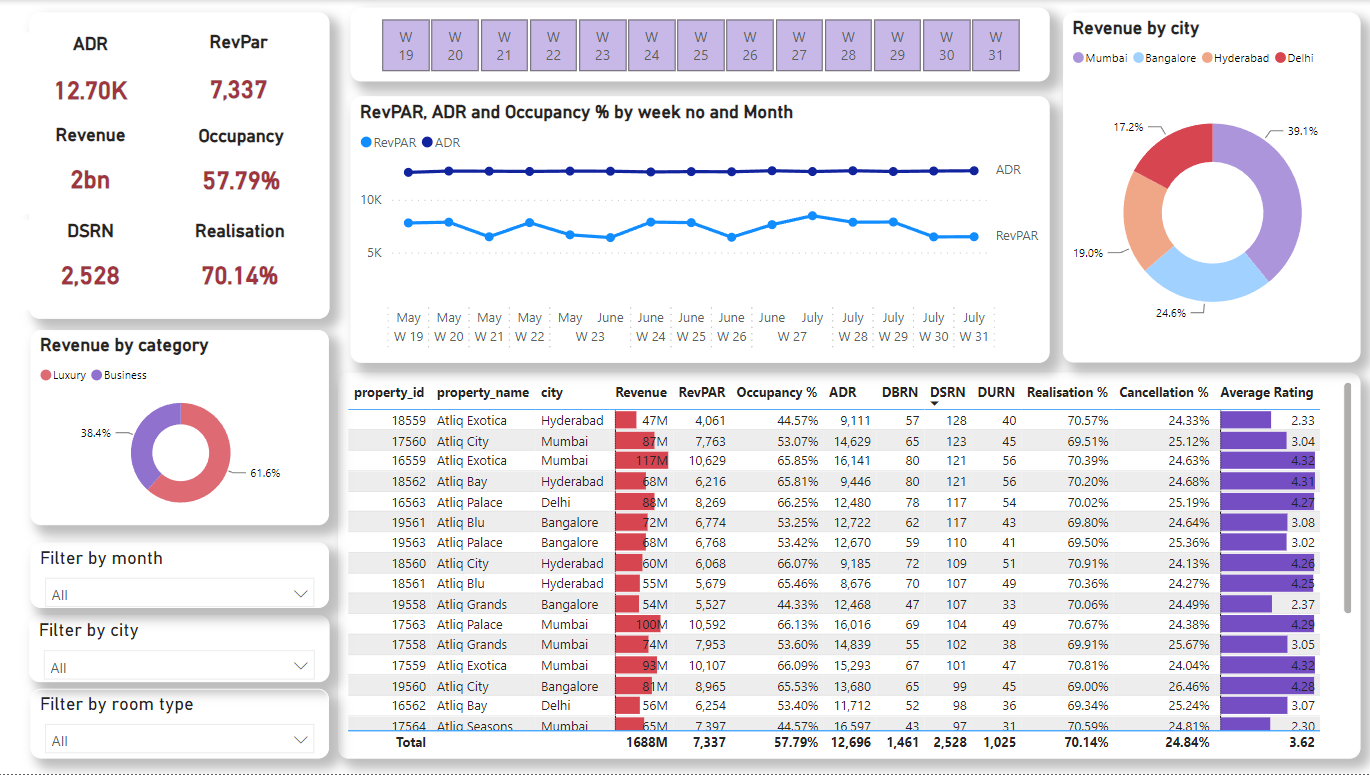

The page's visual inventory and layout, read from the dashboard file:
{"tool":"powerbi","page":{"name":"Page 1","canvas":[1280,720],"ordinal":0},"visuals":[{"type":"shape","box":[29.1,11.6,279.1,284.9],"z":0},{"type":"tableEx","fields":{"Values":["dim_hotels.property_id","dim_hotels.property_name","dim_hotels.city","Key_measures (2).Revenue","Key_measures (2).RevPAR","Key_measures (2).Occupancy %","Key_measures (2).ADR","Key_measures (2).DBRN","Key_measures (2).DSRN","Key_measures (2).DURN","Key_measures (2).Realisation %","Key_measures (2).Cancellation %"]},"box":[316.3,346.5,951.2,359.3],"z":1000},{"type":"slicer","title":"Filter by city","fields":{"Values":["dim_hotels.city"]},"box":[29.1,572.1,279.1,62.8],"z":2000},{"type":"slicer","title":"Filter by room type","fields":{"Values":["dim_hotels.category"]},"box":[30.2,640.7,277.9,65.1],"z":3000},{"type":"slicer","title":"Filter by month","fields":{"Values":["dim_date.mmm yy"]},"box":[30.2,504.7,277.9,60.5],"z":4000},{"type":"slicer","title":"Filter by month","fields":{"Values":["dim_date.week no"]},"box":[327.9,7,650,68.6],"z":5000},{"type":"card","title":"ADR","fields":{"Values":["Key_measures (2).ADR"]},"box":[20.5,30.5,130.2,88.4],"z":6000},{"type":"card","title":"Revenue","fields":{"Values":["Key_measures (2).Revenue"]},"box":[20.9,115.1,130.2,83.7],"z":7000},{"type":"card","title":"RevPar","fields":{"Values":["Key_measures (2).RevPAR"]},"box":[149.5,29.3,147.7,88.4],"z":8000},{"type":"card","title":"DSRN","fields":{"Values":["Key_measures (2).DSRN"]},"box":[20.9,204.7,130.2,83.7],"z":9000},{"type":"card","title":"Realisation","fields":{"Values":["Key_measures (2).Realisation %"]},"box":[151.2,204.7,147.7,83.7],"z":10000},{"type":"card","title":"Occupancy","fields":{"Values":["Key_measures (2).Occupancy %"]},"box":[152.3,116.3,147.7,83.7],"z":11000},{"type":"donutChart","fields":{"Category":["dim_hotels.category"],"Y":["Key_measures (2).Revenue"]},"box":[30.2,307,277.9,181.4],"z":12000},{"type":"lineChart","title":"RevPAR, ADR and Occupancy % by week no and Month","fields":{"Category":["dim_date.week no","dim_date.mmm yy.Variation.Date Hierarchy.Month"],"Y":["Key_measures (2).RevPAR","Key_measures (2).ADR"]},"box":[327.9,89.5,650,247.7],"z":13000},{"type":"donutChart","fields":{"Category":["dim_hotels.city"],"Y":["Key_measures (2).Revenue"]},"box":[990.7,11.6,276.7,325.6],"z":14000}]}

Visuals, with their boxes in screenshot pixels (x1, y1, x2, y2), scaled from the page's 1280x720 canvas onto the 1370x775 screenshot:
shape: detection(31, 12, 330, 319)
tableEx - dim_hotels.property_id x dim_hotels.property_name: detection(339, 373, 1357, 760)
"Filter by city" slicer: detection(31, 616, 330, 683)
"Filter by room type" slicer: detection(32, 690, 330, 760)
"Filter by month" slicer: detection(32, 543, 330, 608)
"Filter by month" slicer: detection(351, 8, 1047, 81)
"ADR" card: detection(22, 33, 161, 128)
"Revenue" card: detection(22, 124, 162, 214)
"RevPar" card: detection(160, 32, 318, 127)
"DSRN" card: detection(22, 220, 162, 310)
"Realisation" card: detection(162, 220, 320, 310)
"Occupancy" card: detection(163, 125, 321, 215)
donutChart - dim_hotels.category x Key_measures (2).Revenue: detection(32, 330, 330, 526)
"RevPAR, ADR and Occupancy % by week no and Month" lineChart: detection(351, 96, 1047, 363)
donutChart - dim_hotels.city x Key_measures (2).Revenue: detection(1060, 12, 1357, 363)
